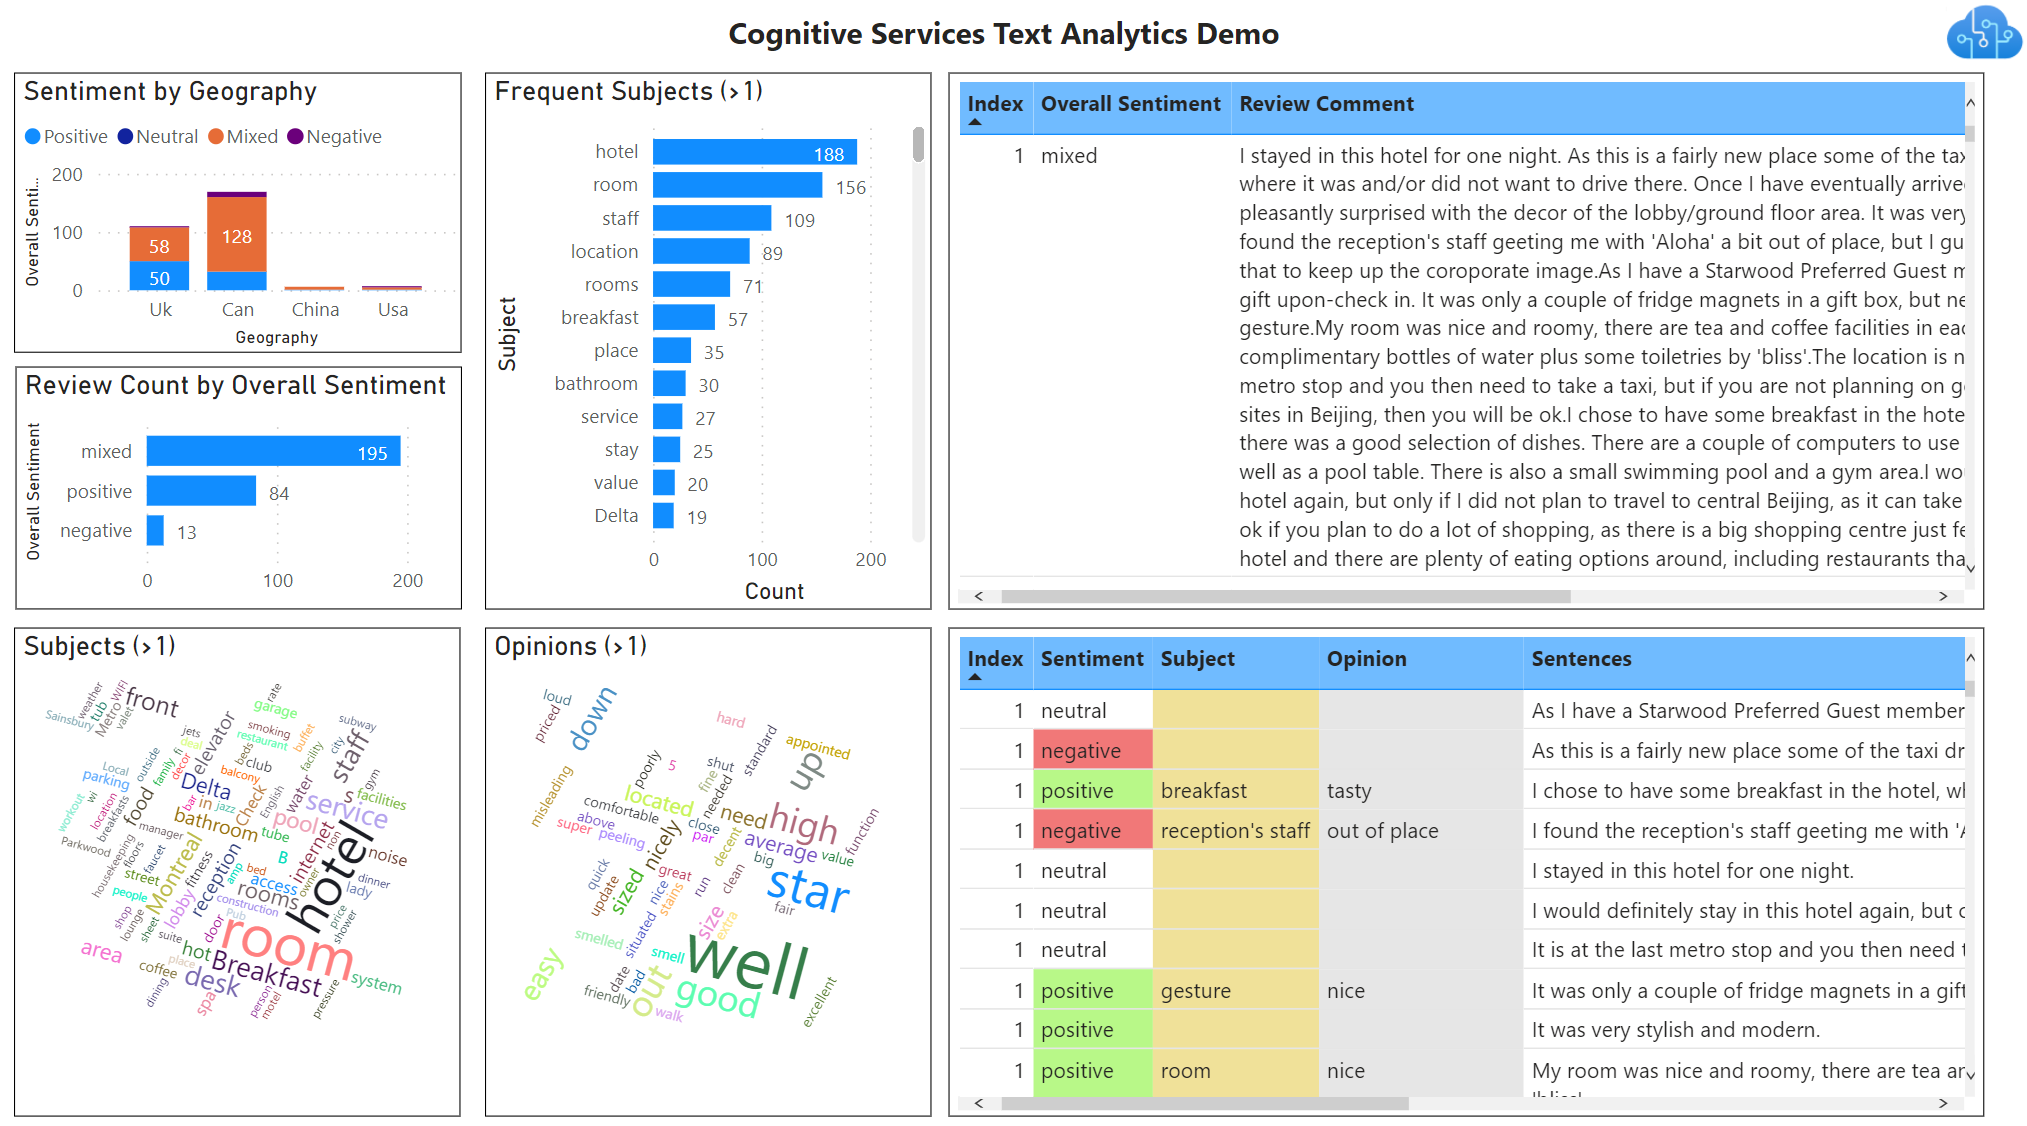

What the dashboard file says about the page in this screenshot:
{"tool":"powerbi","page":{"name":"Survey Text Analysis","canvas":[1280,720],"ordinal":1},"visuals":[{"type":"columnChart","title":"Sentiment by Geography","fields":{"Y":["Reviews_Base.Positive","Reviews_Base.Neutral","Reviews_Base.Mixed","Reviews_Base.Negative"],"Category":["Reviews_Base.Geography"]},"box":[15,55,280,175],"z":0},{"type":"clusteredBarChart","fields":{"Category":["Reviews_Base.GetSentiment.OverallSentiment"],"Y":["CountNonNull(Reviews_Base.Index)"]},"box":[16,239,279,152],"z":1000},{"type":"textbox","box":[456.6,12.4,365.9,44.3],"z":2000},{"type":"image","box":[1216,0,64,61],"z":3000},{"type":"WordCloud1447959067750","title":"Opinion Mining Target","fields":{"Category":["Reviews_Expanded.GetSentiment.opinionMining.sentences.target"]},"box":[15,403,279,306],"z":4000},{"type":"WordCloud1447959067750","title":"Opinion Mining Assessment","fields":{"Category":["Reviews_Expanded.GetSentiment.opinionMining.sentences.assessment"]},"box":[310,403,279,306],"z":5000},{"type":"tableEx","fields":{"Values":["Reviews_Base.Index","Reviews_Base.GetSentiment.OverallSentiment","Reviews_Base.Review Comment","Reviews_Base.Hotel","Reviews_Base.Geography"]},"box":[600,55,648,336],"z":6000},{"type":"tableEx","fields":{"Values":["Reviews_Expanded.Index","Reviews_Expanded.GetSentiment.opinionMining.sentences.sentiment","Reviews_Expanded.GetSentiment.opinionMining.sentences.sentence","Reviews_Expanded.GetSentiment.opinionMining.sentences.target","Reviews_Expanded.GetSentiment.opinionMining.sentences.assessment","Reviews_Expanded.Hotel","Reviews_Expanded.Geography"]},"box":[600,403,648,306],"z":7000},{"type":"clusteredBarChart","title":"Count by Sentiment Target","fields":{"Category":["Reviews_Expanded.GetSentiment.opinionMining.sentences.target"],"Y":["CountNonNull(Reviews_Expanded.Index)"]},"box":[310,55,279,336],"z":8000}]}

Visuals, with their boxes in screenshot pixels (x1, y1, x2, y2), scaled from the page's 1280x720 canvas onto the 2027x1126 screenshot:
"Sentiment by Geography" columnChart: left=24, top=86, right=467, bottom=360
clusteredBarChart - Reviews_Base.GetSentiment.OverallSentiment x CountNonNull(Reviews_Base.Index): left=25, top=374, right=467, bottom=611
textbox: left=723, top=19, right=1303, bottom=89
image: left=1926, top=0, right=2026, bottom=95
"Opinion Mining Target" WordCloud1447959067750: left=24, top=630, right=466, bottom=1109
"Opinion Mining Assessment" WordCloud1447959067750: left=491, top=630, right=933, bottom=1109
tableEx - Reviews_Base.Index x Reviews_Base.GetSentiment.OverallSentiment: left=950, top=86, right=1976, bottom=611
tableEx - Reviews_Expanded.Index x Reviews_Expanded.GetSentiment.opinionMining.sentences.sentiment: left=950, top=630, right=1976, bottom=1109
"Count by Sentiment Target" clusteredBarChart: left=491, top=86, right=933, bottom=611
